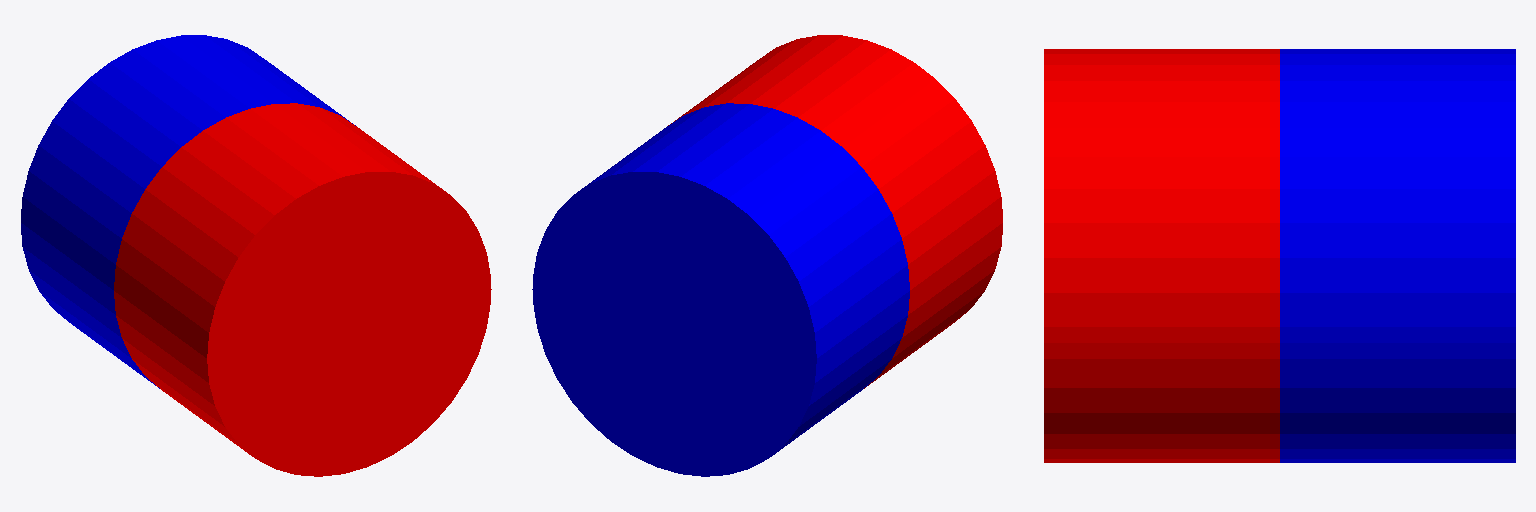
URDF robot description (magnet):
<?xml version="1.0" encoding="utf-8"?>
<!-- This URDF was automatically created by SolidWorks to URDF Exporter! Originally created by [author] ([email redacted]) 
     Commit Version: 1.6.0-4-g7f85cfe  Build Version: 1.6.7995.38578
     For more information, please see http://wiki.ros.org/sw_urdf_exporter -->
<robot
  name="magnet">
  <link
    name="north_link">
    <inertial>
      <origin
        xyz="6.853290365817E-19 -0.0125 7.65378971138986E-19"
        rpy="0 0 0" />
      <mass
        value="0.0380132711084365" />
      <inertia
        ixx="6.57946367435188E-06"
        ixy="1.81405085529609E-38"
        ixz="-1.11074910177625E-54"
        iyy="9.19921160824163E-06"
        iyz="-1.60407998262722E-22"
        izz="6.57946367435188E-06" />
    </inertial>
    <visual>
      <origin
        xyz="0 0 0"
        rpy="0 0 0" />
      <geometry>
        <mesh
          filename="meshes/north_link.STL" />
      </geometry>
      <material
        name="north_link">
        <color
          rgba="1 0 0 1" />
      </material>
    </visual>
    <collision>
      <origin
        xyz="0 0 0"
        rpy="0 0 0" />
      <geometry>
        <mesh
          filename="meshes/north_link.STL" />
      </geometry>
    </collision>
  </link>
  <link
    name="south_link">
    <inertial>
      <origin
        xyz="4.77037523808433E-18 -6.72936446262433E-18 -0.0125"
        rpy="0 0 0" />
      <mass
        value="0.0380132711084365" />
      <inertia
        ixx="6.57946367435188E-06"
        ixy="1.05879118406788E-22"
        ixz="4.05251481934596E-23"
        iyy="6.57946367435188E-06"
        iyz="4.97824086208902E-23"
        izz="9.19921160824163E-06" />
    </inertial>
    <visual>
      <origin
        xyz="0 0 0"
        rpy="0 0 0" />
      <geometry>
        <mesh
          filename="meshes/south_link.STL" />
      </geometry>
      <material
        name="south_link">
        <color
          rgba="0 0 1 1" />
      </material>
    </visual>
    <collision>
      <origin
        xyz="0 0 0"
        rpy="0 0 0" />
      <geometry>
        <mesh
          filename="meshes/south_link.STL" />
      </geometry>
    </collision>
  </link>
  <joint
    name="fixed_joint"
    type="fixed">
    <origin
      xyz="0 0 0"
      rpy="1.5707963267949 0.0 0" />
    <parent
      link="north_link" />
    <child
      link="south_link" />
    <axis
      xyz="0 0 1" />
  </joint>
</robot>

--- What the picture shows (computed from the rendered views, not written in the file) ---
3 views of the same robot in one strip: view 1: azimuth 30°, elevation 25°; view 2: azimuth 150°, elevation 25°; view 3: azimuth 270°, elevation 25° (orthographic).
Model magnet with 2 links and 1 joints (1 fixed), rooted at north_link, posed every joint at zero.
Visible links, largest first — view 1: north_link, south_link; view 2: south_link, north_link; view 3: north_link, south_link.
Boxes of the visible links, bbox=[...] form: north_link: bbox=[114, 103, 491, 476]; south_link: bbox=[21, 35, 355, 388]; south_link: bbox=[532, 103, 909, 476]; north_link: bbox=[668, 35, 1002, 388]; north_link: bbox=[1044, 49, 1279, 462]; south_link: bbox=[1280, 49, 1515, 462].
Bounding box of the posed robot: 0.044 × 0.05 × 0.044 m (x, y, z).
Meshes: 2 distinct files referenced, 2 mesh visuals loaded (2 binary STL).